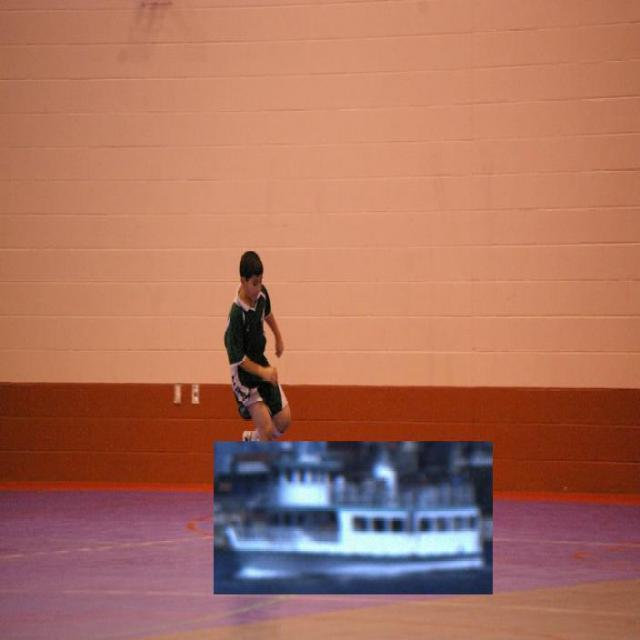CIV_Ship: (215, 444, 492, 596)
